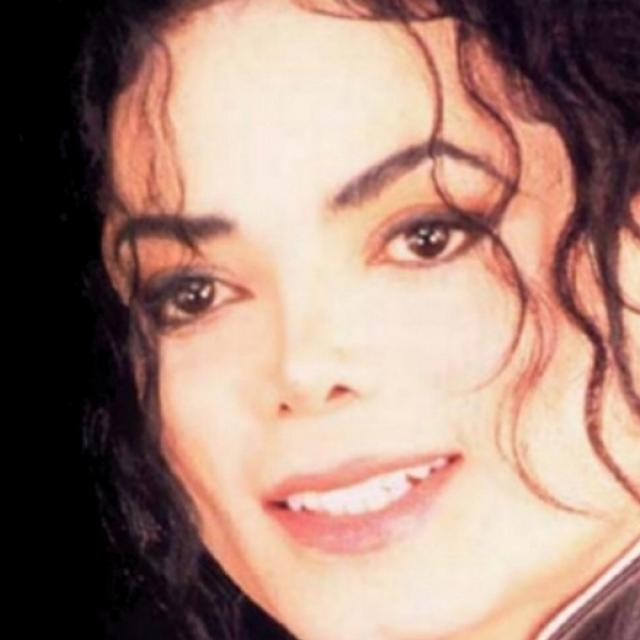Normal: (103, 0, 639, 639)
